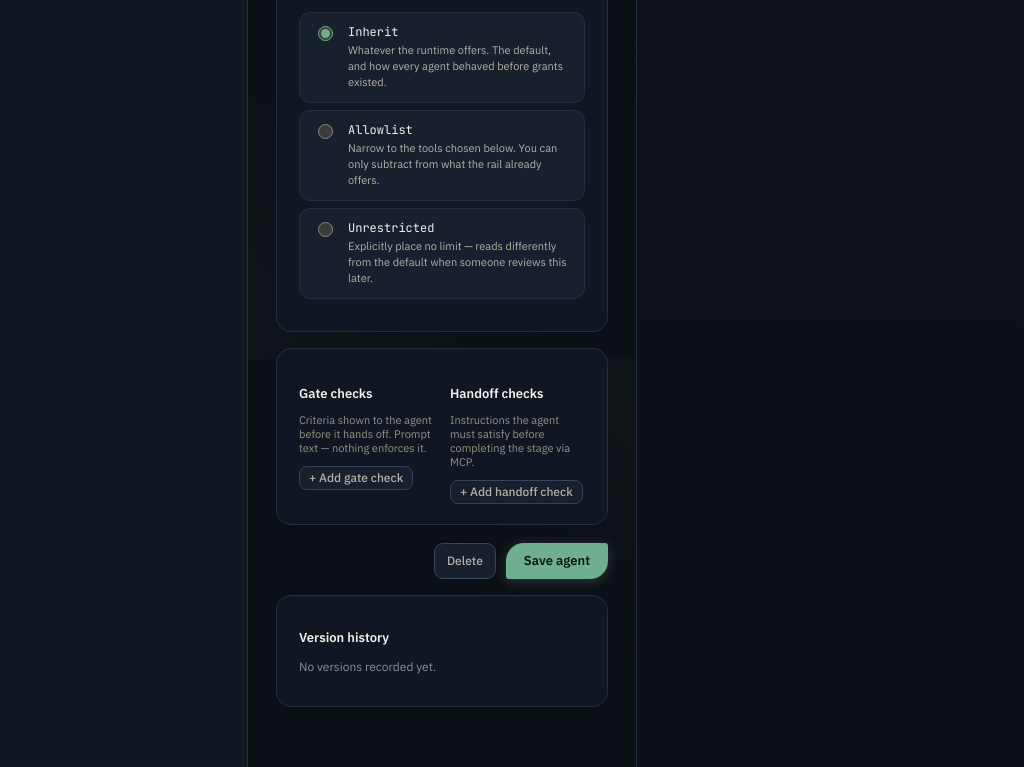
Scenario: the Save button while its request is away › is disabled and says Saving…
(page scrolled)
Click the button "Save agent" at point(557, 561), box [506, 543, 608, 579]
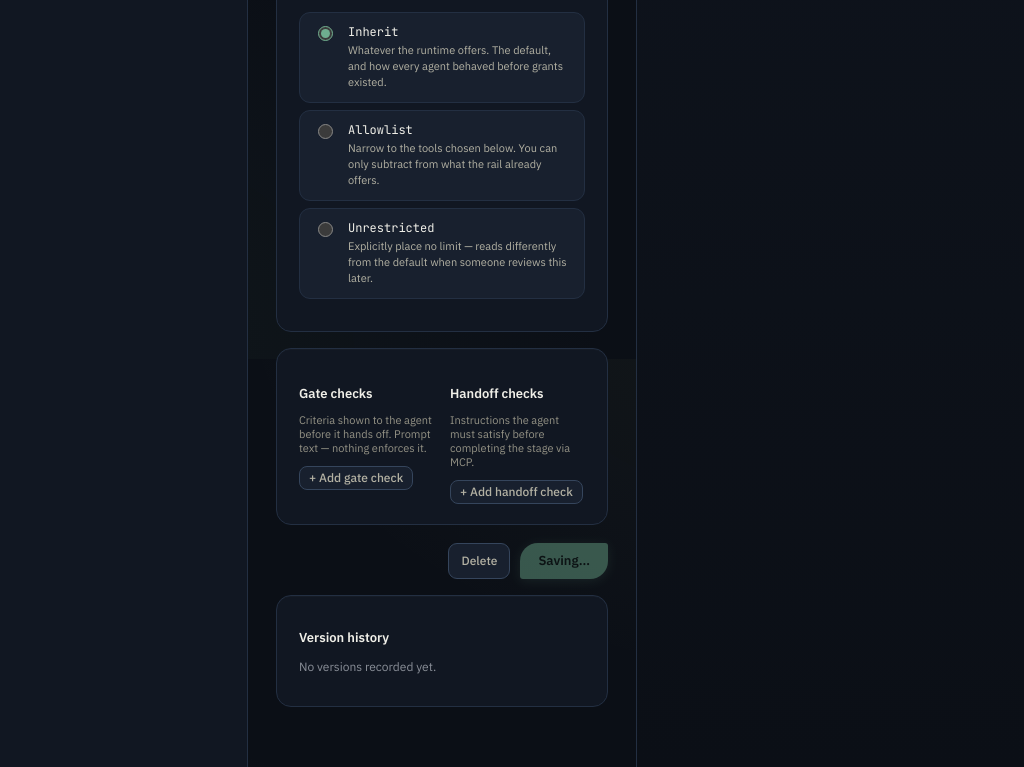
Now the button "Saving…" is disabled, box [520, 543, 608, 579]
